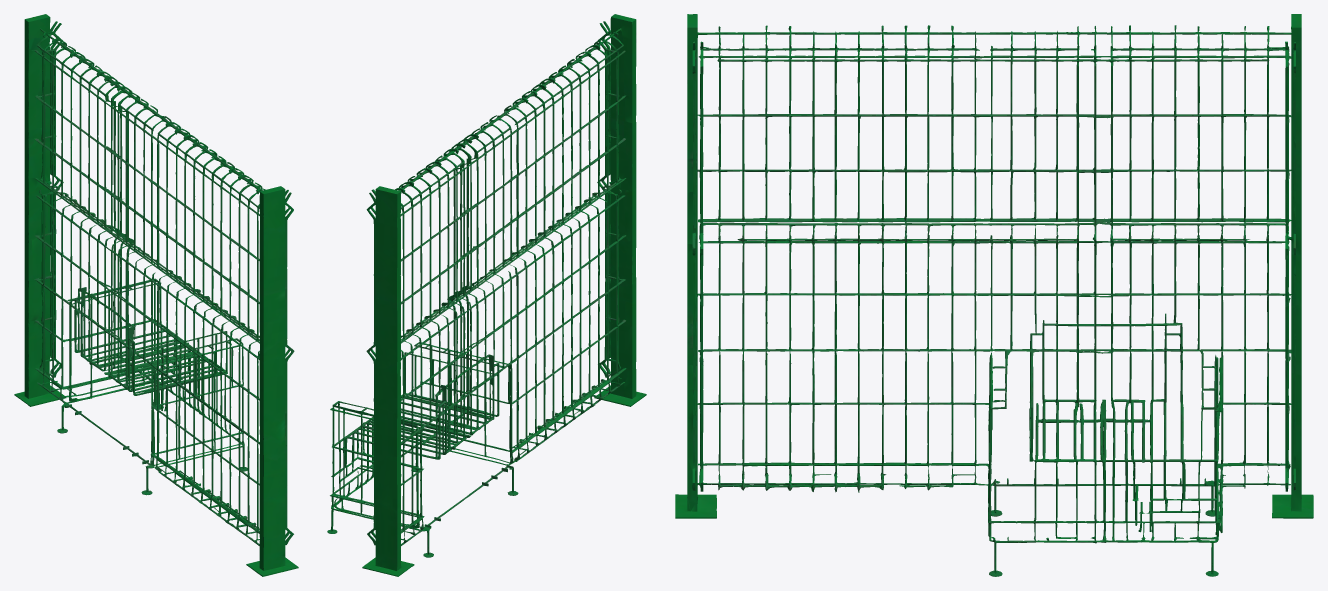
File: 04_1_hl_ic_chair-opt-v19.glb
3 renders of one model, left to right at view 1: azimuth 30°, elevation 25°; view 2: azimuth 150°, elevation 25°; view 3: azimuth 270°, elevation 25°, orthographic. The views are drawn at different scales.
Parts seen in each view (by area): view 1: tripo_node_f71bac4e-652f-46b5-8fb2-6b3e8438415f.003; view 2: tripo_node_f71bac4e-652f-46b5-8fb2-6b3e8438415f.003; view 3: tripo_node_f71bac4e-652f-46b5-8fb2-6b3e8438415f.003.
Part boxes in pixels (x1,y1,x2,y2): tripo_node_f71bac4e-652f-46b5-8fb2-6b3e8438415f.003: [14, 14, 298, 576]; tripo_node_f71bac4e-652f-46b5-8fb2-6b3e8438415f.003: [327, 14, 646, 576]; tripo_node_f71bac4e-652f-46b5-8fb2-6b3e8438415f.003: [675, 14, 1313, 576].
Bounding box in the file's own units: 0.5506 × 1.85 × 2.15.
Materials: 1 (1 with a texture image).
